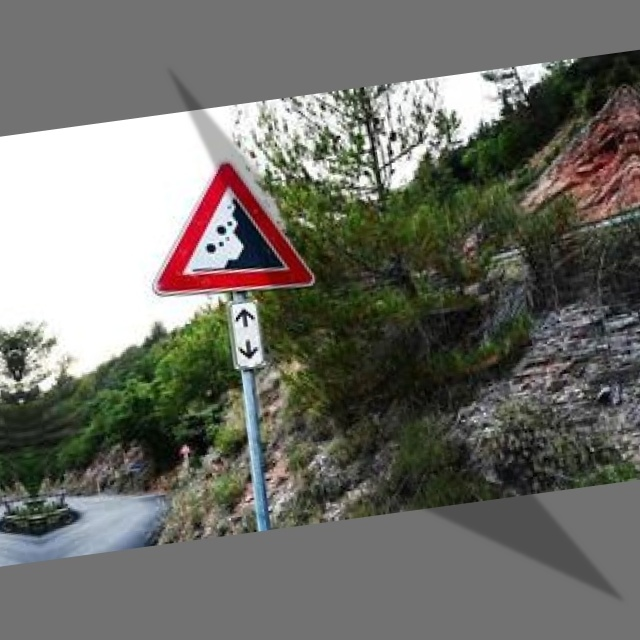Falling_Rocks: (130, 152, 322, 306)
